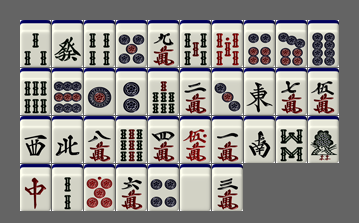0m: (180, 116, 211, 163)
0p: (84, 164, 115, 211)
0s: (212, 20, 243, 67)
1m: (212, 116, 243, 163)
1p: (84, 68, 115, 115)
1s: (308, 116, 339, 163)
1z: (244, 68, 275, 115)
2m: (180, 68, 211, 115)
2p: (116, 68, 147, 115)
2s: (52, 164, 83, 211)
2z: (244, 116, 275, 163)
3m: (212, 164, 243, 211)
3p: (212, 68, 243, 115)
3s: (20, 20, 51, 67)
3z: (20, 116, 51, 163)
4m: (148, 116, 179, 163)
4p: (148, 164, 179, 211)
4s: (84, 20, 115, 67)
4z: (52, 116, 83, 163)
5m: (308, 68, 339, 115)
5p: (116, 20, 147, 67)
5s: (180, 20, 211, 67)
5z: (180, 164, 211, 211)
6m: (116, 164, 147, 211)
6p: (244, 20, 275, 67)
6s: (20, 68, 51, 115)
6z: (52, 20, 83, 67)
7m: (276, 68, 307, 115)
7p: (276, 20, 307, 67)
7s: (148, 68, 179, 115)
7z: (20, 164, 51, 211)
8m: (84, 116, 115, 163)
8p: (308, 20, 339, 67)
8s: (276, 116, 307, 163)
9m: (148, 20, 179, 67)
9p: (52, 68, 83, 115)
9s: (116, 116, 147, 163)
